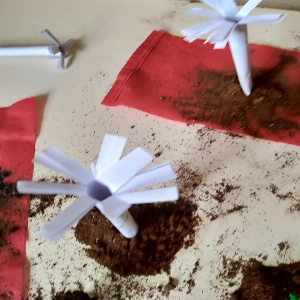weed: (12, 130, 182, 243), (180, 4, 274, 105), (4, 21, 75, 76)
